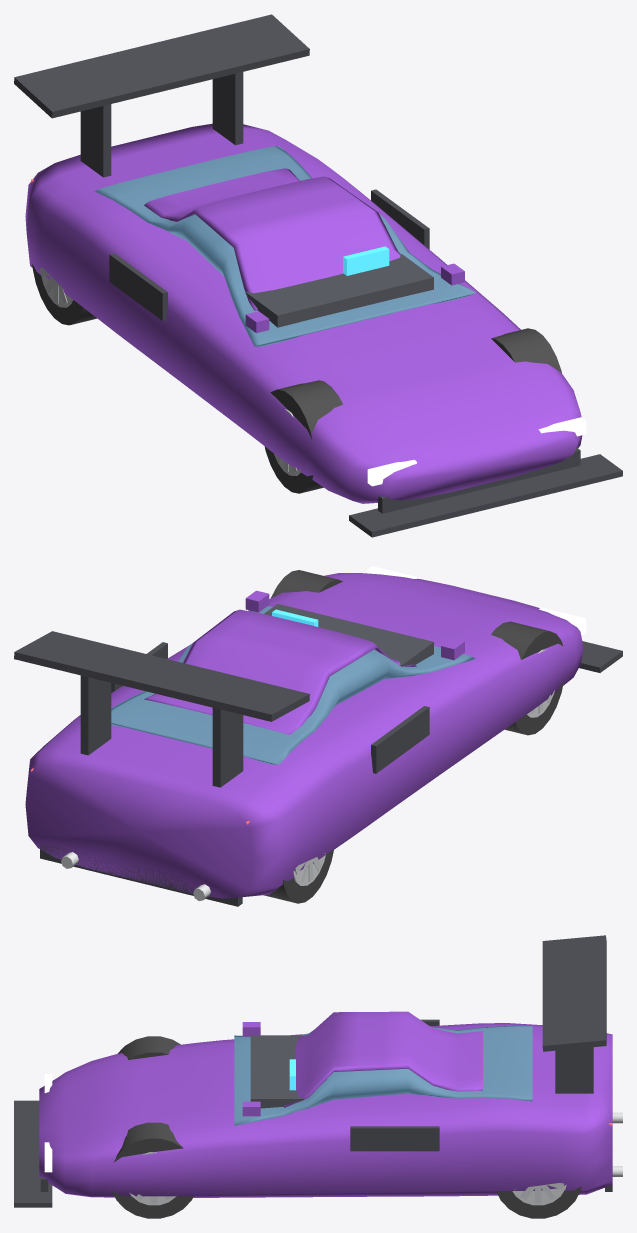
Rendered from vanta.glb.
3 views of the same model, one above another, from view 1: azimuth 30°, elevation 25°; view 2: azimuth 150°, elevation 25°; view 3: azimuth 270°, elevation 25° (orthographic). The views are drawn at different scales.
Visible parts, largest first — view 1: Body, Car_vanta, Roof, Glass, Interior, Wheel_FR, Wheel_FL, Wheel_RR; view 2: Body, Car_vanta, Roof, Glass, Interior, Wheel_FR, Wheel_RR, Wheel_FL; view 3: Body, Car_vanta, Roof, Glass, Interior, Wheel_FL, Wheel_RL, Wheel_FR.
Boxes of the visible parts, <box> form: Body: <box>25,123,582,503</box>; Car_vanta: <box>14,14,622,537</box>; Roof: <box>144,168,400,310</box>; Glass: <box>95,146,475,346</box>; Interior: <box>245,246,433,327</box>; Wheel_FR: <box>264,380,342,493</box>; Wheel_FL: <box>491,328,561,372</box>; Wheel_RR: <box>32,264,96,325</box>; Body: <box>25,573,583,898</box>; Car_vanta: <box>14,566,622,906</box>; Roof: <box>144,609,416,734</box>; Glass: <box>111,606,475,764</box>; Interior: <box>264,604,433,666</box>; Wheel_FR: <box>491,621,563,735</box>; Wheel_RR: <box>264,849,333,903</box>; Wheel_FL: <box>271,570,342,597</box>; Body: <box>39,1023,612,1197</box>; Car_vanta: <box>14,935,622,1207</box>; Roof: <box>284,1011,482,1107</box>; Glass: <box>234,1025,532,1125</box>; Interior: <box>250,1035,304,1108</box>; Wheel_FL: <box>112,1122,193,1218</box>; Wheel_RL: <box>496,1183,581,1218</box>; Wheel_FR: <box>117,1036,180,1059</box>.
Size of the model in its own units: 2.02 by 1.56 by 4.78.
